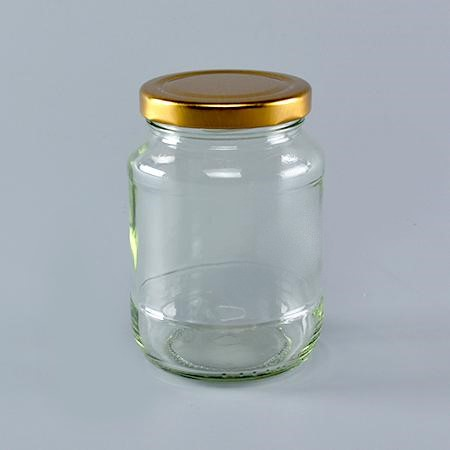glass_bottleww: (96, 63, 364, 411)
